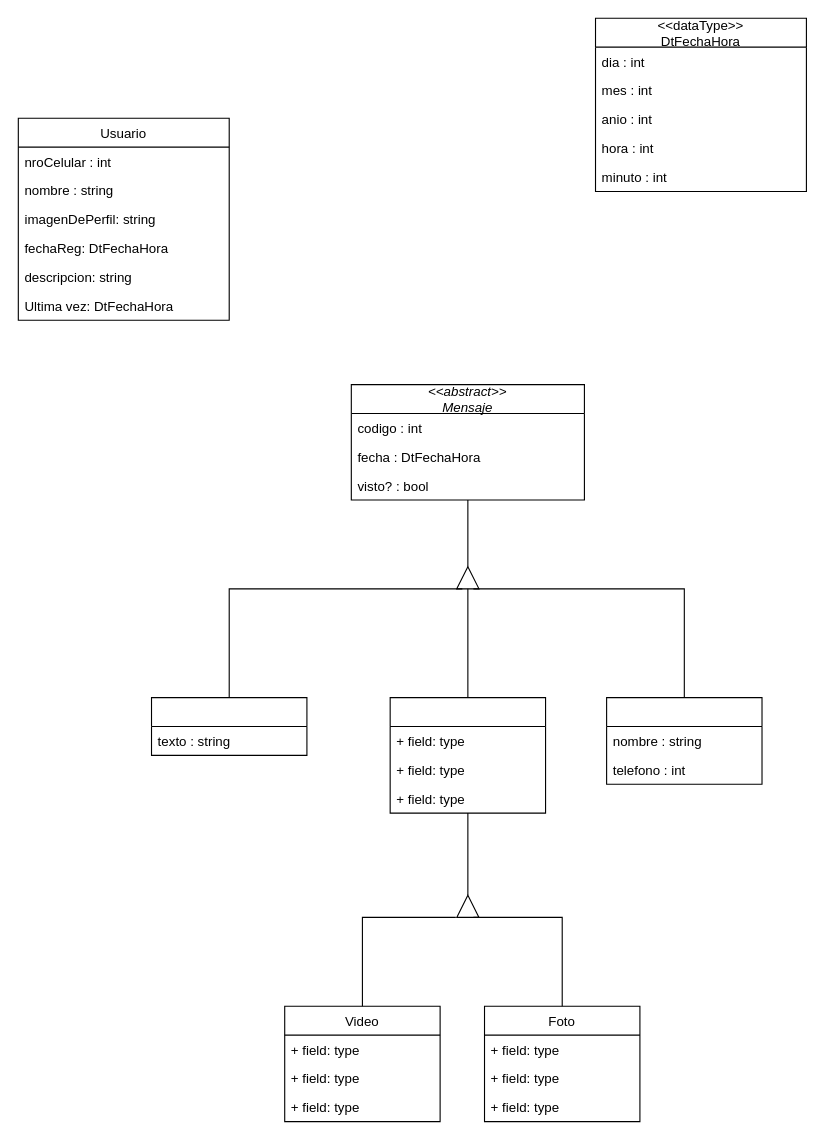
Some shapes in this 825 by 1140 pixel diagram are drawn without their labels. The shapes that lost their labels are listed below. From the top down, each one's box as (x1, y1, x2, y2) in pixels, then its label:
(150, 697, 307, 755): Simple
(606, 697, 762, 784): Contacto
(389, 697, 546, 813): Multimedia
